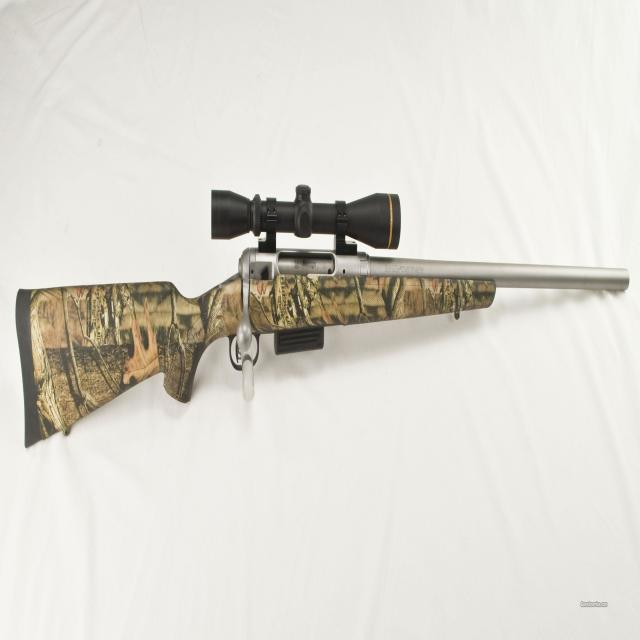gun: (15, 177, 631, 483)
